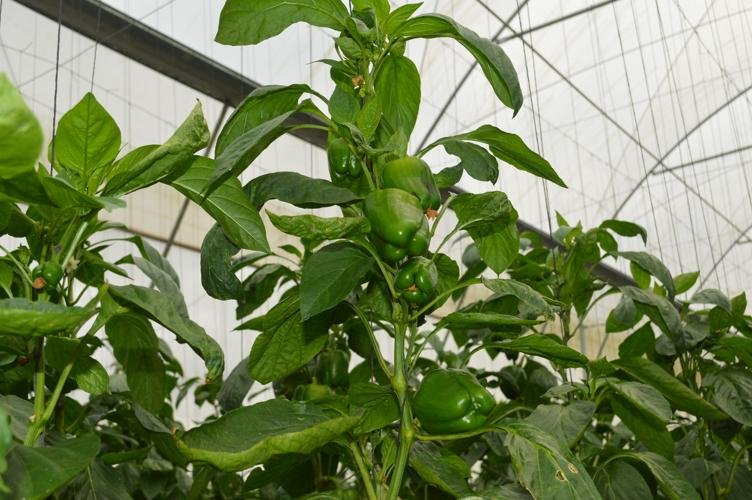BellPepper: (405, 358, 498, 444), (355, 187, 435, 262), (374, 152, 445, 210), (323, 132, 375, 202), (392, 253, 441, 316), (311, 343, 356, 392)
